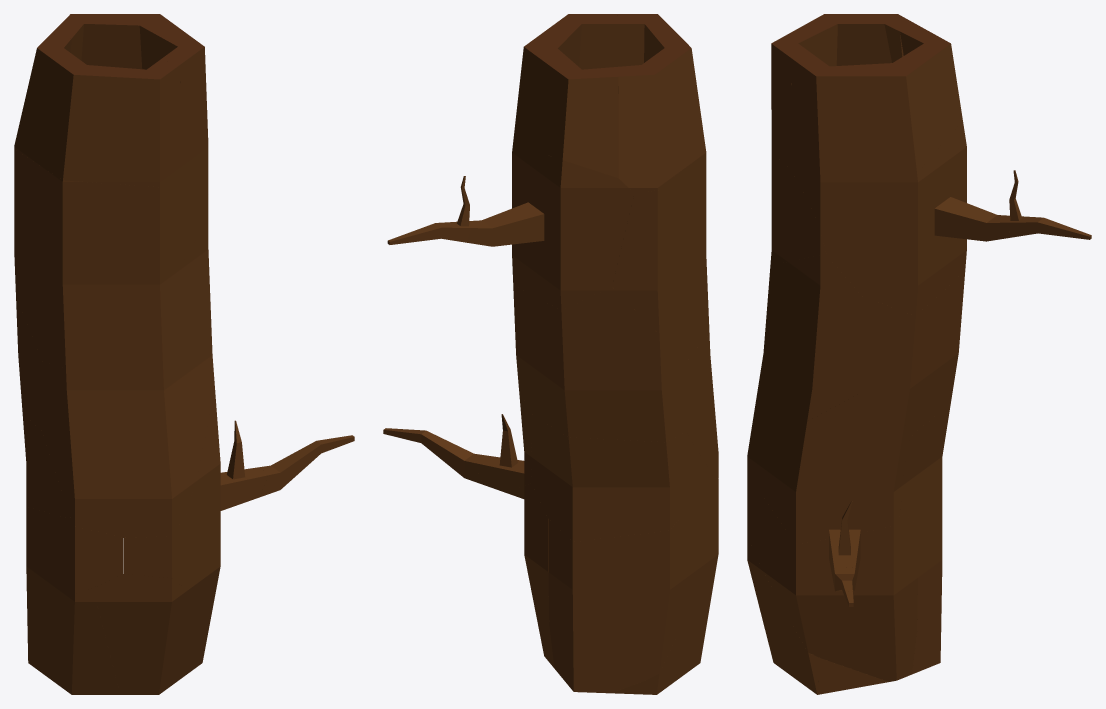
The model's file is Logs-breakable.fbx.
3 renders of one model, left to right at view 1: azimuth 30°, elevation 25°; view 2: azimuth 150°, elevation 25°; view 3: azimuth 270°, elevation 25°, orthographic.
Visible parts, largest first — view 1: Circle.002_cell.010, Circle.002_cell.006, Circle.002_cell.005, Circle.002_cell.004, Circle.002_cell.007, Circle.002_cell, Circle.002_cell.001, Circle.002_cell.012, Circle.002_cell.003, Circle.002_cell.008, Circle.002_cell.009, Circle.002_cell.011; view 2: Circle.002_cell, Circle.002_cell.009, Circle.002_cell.014, Circle.002_cell.008, Circle.002_cell.007, Circle.002_cell.006, Circle.002_cell.005, Circle.002_cell.001, Circle.002_cell.012, Circle.002_cell.010, Circle.002_cell.003, Circle.002_cell.011 (+1 smaller); view 3: Circle.002_cell.007, Circle.002_cell.012, Circle.002_cell.014, Circle.002_cell.010, Circle.002_cell.003, Circle.002_cell.009, Circle.002_cell.005, Circle.002_cell.006, Circle.002_cell.008, Circle.002_cell, Circle.002_cell.004, Circle.002_cell.002 (+2 smaller).
Part boxes in pixels (box(x1,y1,x2,y2)): Circle.002_cell.010: box(42, 219, 214, 537); Circle.002_cell.006: box(14, 149, 208, 368); Circle.002_cell.005: box(14, 33, 180, 187); Circle.002_cell.004: box(96, 574, 209, 694); Circle.002_cell.007: box(51, 14, 208, 189); Circle.002_cell: box(26, 507, 123, 642); Circle.002_cell.001: box(28, 587, 120, 694); Circle.002_cell.012: box(123, 503, 231, 621); Circle.002_cell.003: box(186, 390, 267, 515); Circle.002_cell.008: box(22, 413, 70, 518); Circle.002_cell.009: box(16, 297, 42, 431); Circle.002_cell.011: box(260, 438, 338, 496); Circle.002_cell: box(548, 478, 718, 693); Circle.002_cell.009: box(513, 285, 685, 442); Circle.002_cell.014: box(467, 143, 634, 310); Circle.002_cell.008: box(528, 412, 713, 541); Circle.002_cell.007: box(513, 14, 618, 178); Circle.002_cell.006: box(612, 151, 709, 361); Circle.002_cell.005: box(617, 14, 705, 192); Circle.002_cell.001: box(553, 547, 718, 694); Circle.002_cell.012: box(506, 483, 554, 667); Circle.002_cell.010: box(686, 334, 718, 478); Circle.002_cell.003: box(475, 387, 532, 492); Circle.002_cell.011: box(403, 429, 486, 484); Circle.002_cell.007: box(791, 26, 962, 224); Circle.002_cell.012: box(747, 493, 917, 681); Circle.002_cell.014: box(819, 120, 1010, 316); Circle.002_cell.010: box(747, 255, 860, 493); Circle.002_cell.003: box(761, 392, 909, 582); Circle.002_cell.009: box(861, 271, 965, 436); Circle.002_cell.005: box(771, 14, 919, 170); Circle.002_cell.006: box(770, 152, 827, 264); Circle.002_cell.008: box(900, 403, 950, 523); Circle.002_cell: box(912, 512, 942, 673); Circle.002_cell.004: box(747, 537, 818, 694); Circle.002_cell.002: box(1006, 170, 1091, 239).
Size of the model in its own units: 4359 by 8382 by 4226.
